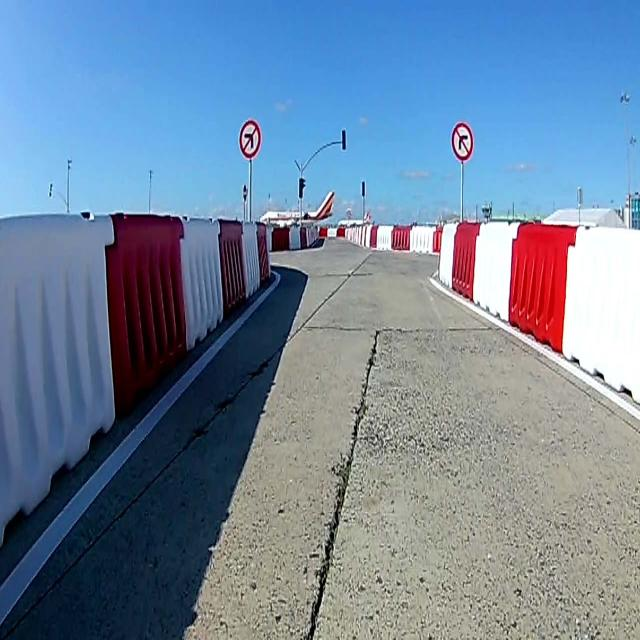sagadonulmez: (452, 121, 473, 159)
soladonulmez: (240, 121, 262, 155)
